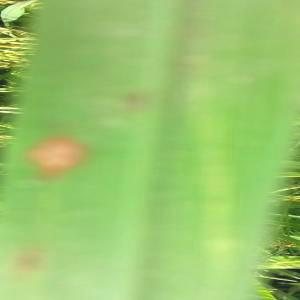1 RiceBlast: (20, 120, 96, 205)
